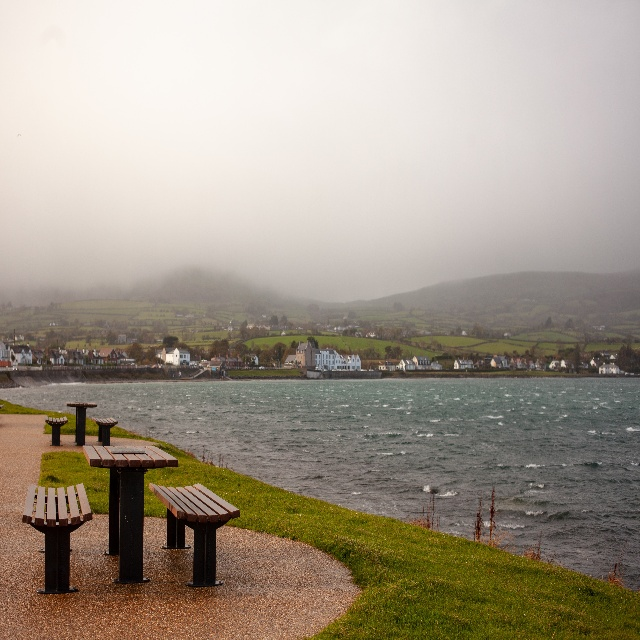obstacle: (17, 431, 252, 621), (33, 389, 115, 447)
